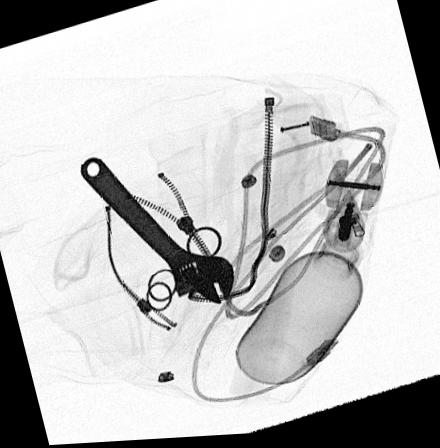Wrench: (79, 155, 234, 307)
